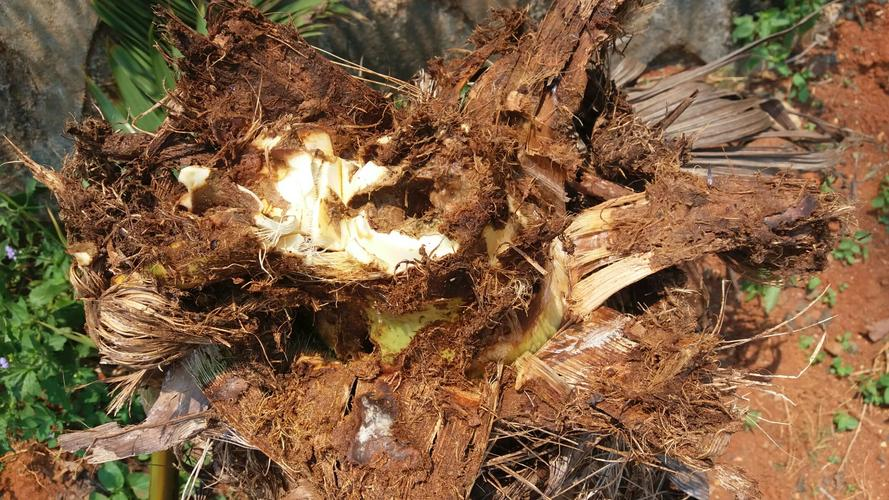Curculionidae: (433, 268, 473, 298)
